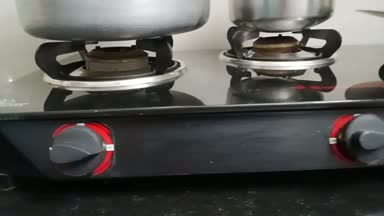flame_gas_off: (34, 38, 173, 178)
